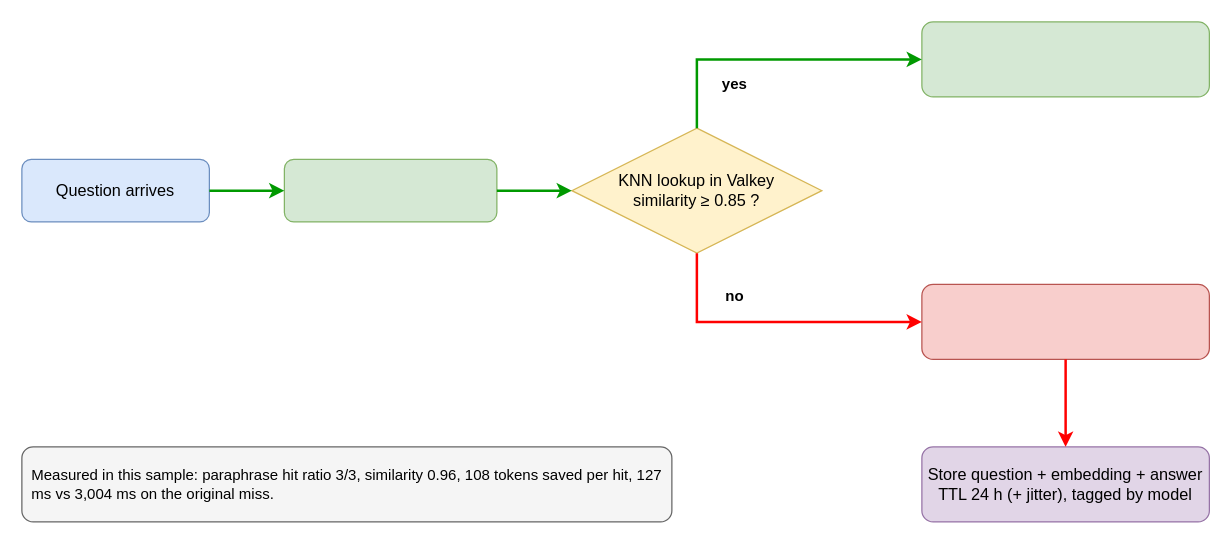
The diagram is 1231 pixels wide and 544 high, and some of its shapes have lost their labels. Each missing label, with the centre of its shape:
"Embed question (Titan V2, 1024 dims)" goes at (x=390, y=190).
"HIT — return cached answer 0 agent tokens · ~130 ms" goes at (x=1065, y=59).
"MISS — run Strands agent full agent loop tokens · ~1-3 s" goes at (x=1065, y=321).
